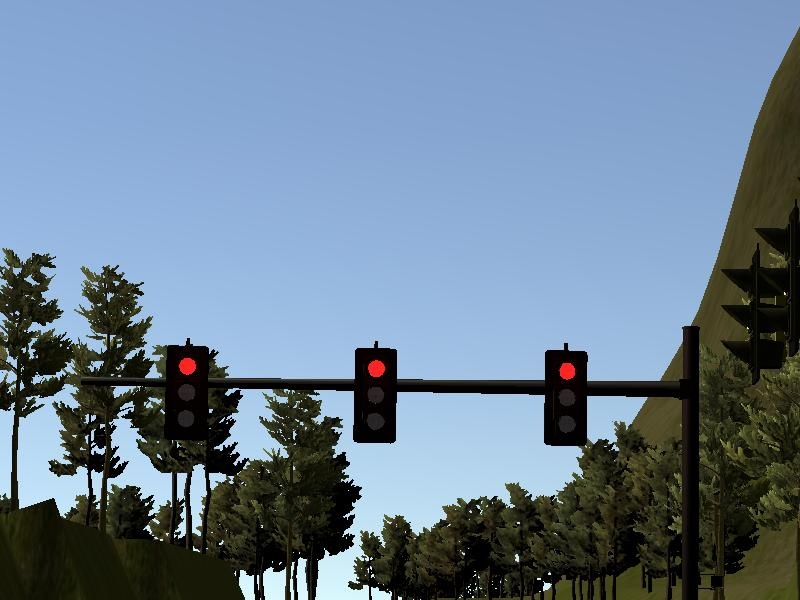red: (354, 348, 395, 445), (165, 345, 206, 442), (545, 351, 586, 448)
